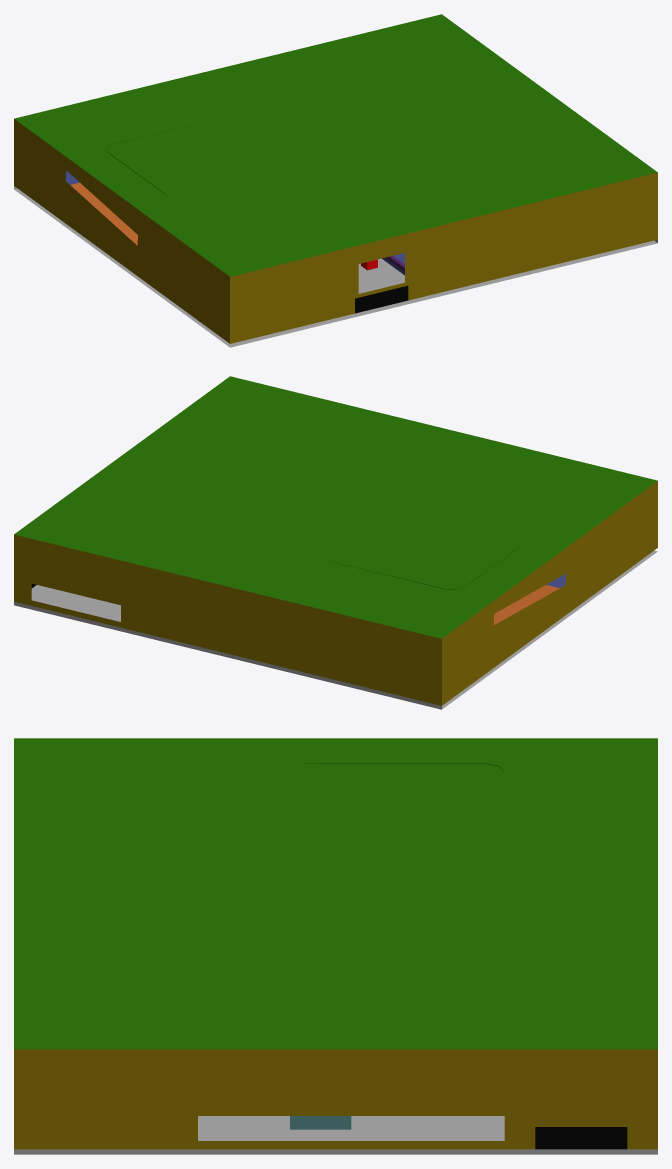
3 views of the same model, one above another, from view 1: azimuth 30°, elevation 25°; view 2: azimuth 150°, elevation 25°; view 3: azimuth 270°, elevation 25° (orthographic). The views are drawn at different scales.
Parts seen in each view (by area): view 1: TechoGeneral, pPlane2, polySurface18, pPlane6, Psio_Nivel1, polySurface19, polySurface26, pPlane10; view 2: TechoGeneral, polySurface21, polySurface18, Psio_Nivel1, polySurface26; view 3: TechoGeneral, pPlane16, Psio_Nivel1, pPlane8, pPlane4, pPlane11, pCube82.
Part boxes in pixels (x1,y1,x2,y2): TechoGeneral: [14, 14, 657, 276]; pPlane2: [408, 172, 657, 300]; polySurface18: [14, 119, 229, 343]; pPlane6: [230, 246, 354, 343]; Psio_Nivel1: [14, 186, 657, 347]; polySurface19: [355, 233, 408, 298]; polySurface26: [65, 170, 137, 245]; pPlane10: [355, 285, 408, 313]; TechoGeneral: [14, 376, 657, 638]; polySurface21: [14, 534, 441, 705]; polySurface18: [442, 481, 657, 705]; Psio_Nivel1: [14, 550, 657, 709]; polySurface26: [493, 574, 565, 624]; TechoGeneral: [14, 738, 657, 1049]; pPlane16: [14, 1049, 535, 1149]; Psio_Nivel1: [14, 1116, 657, 1154]; pPlane8: [535, 1049, 627, 1126]; pPlane4: [627, 1049, 657, 1149]; pPlane11: [535, 1127, 627, 1149]; pCube82: [290, 1116, 351, 1129].
Bounding box in the file's own units: 120 × 19.13 × 105.
